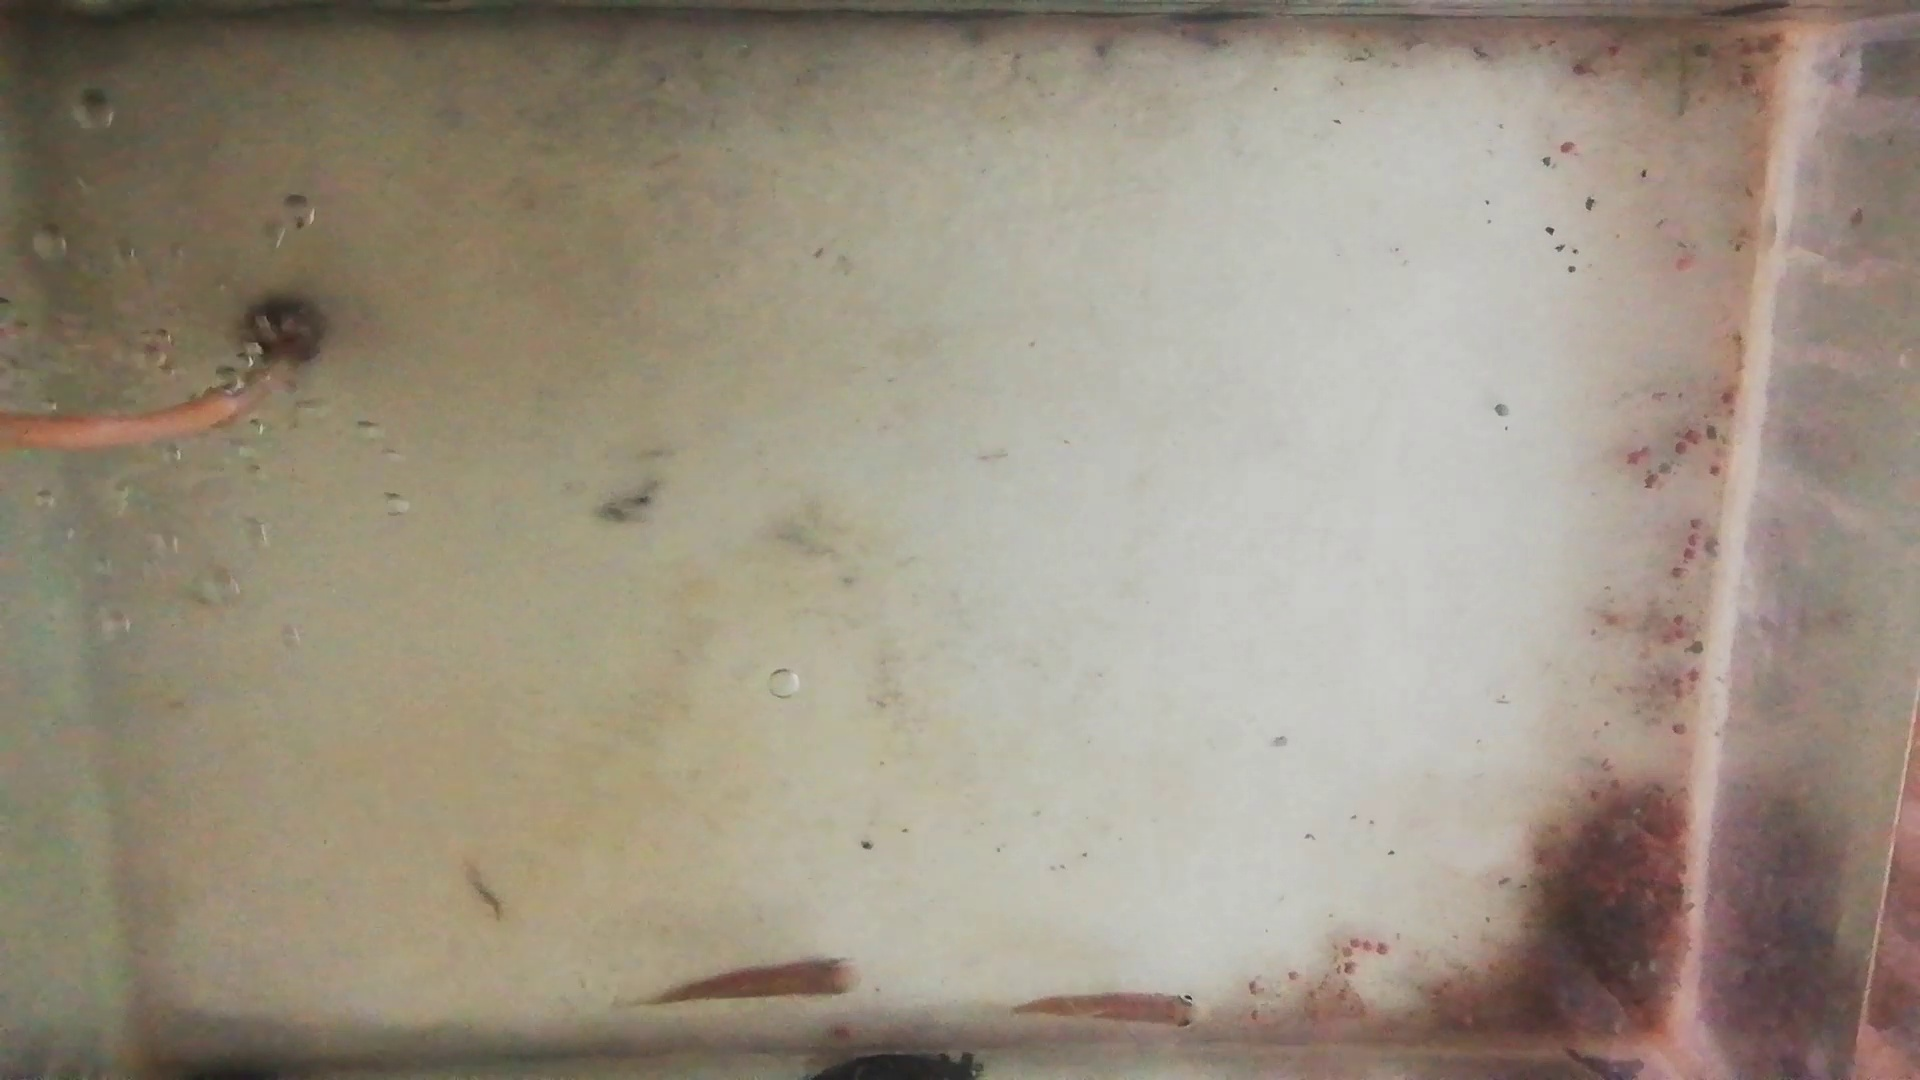fish: (647, 959, 862, 1006), (1011, 993, 1204, 1027)
